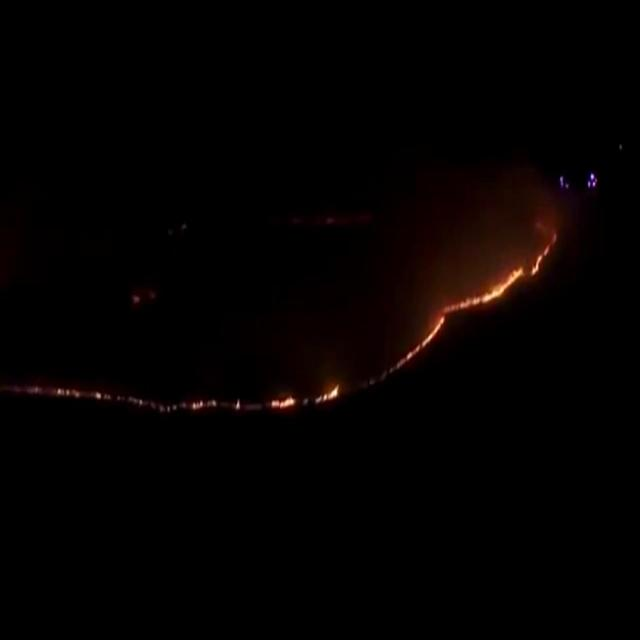Fire: (443, 266, 522, 313), (404, 316, 444, 361), (531, 246, 551, 275), (316, 382, 339, 402), (272, 392, 296, 409)
